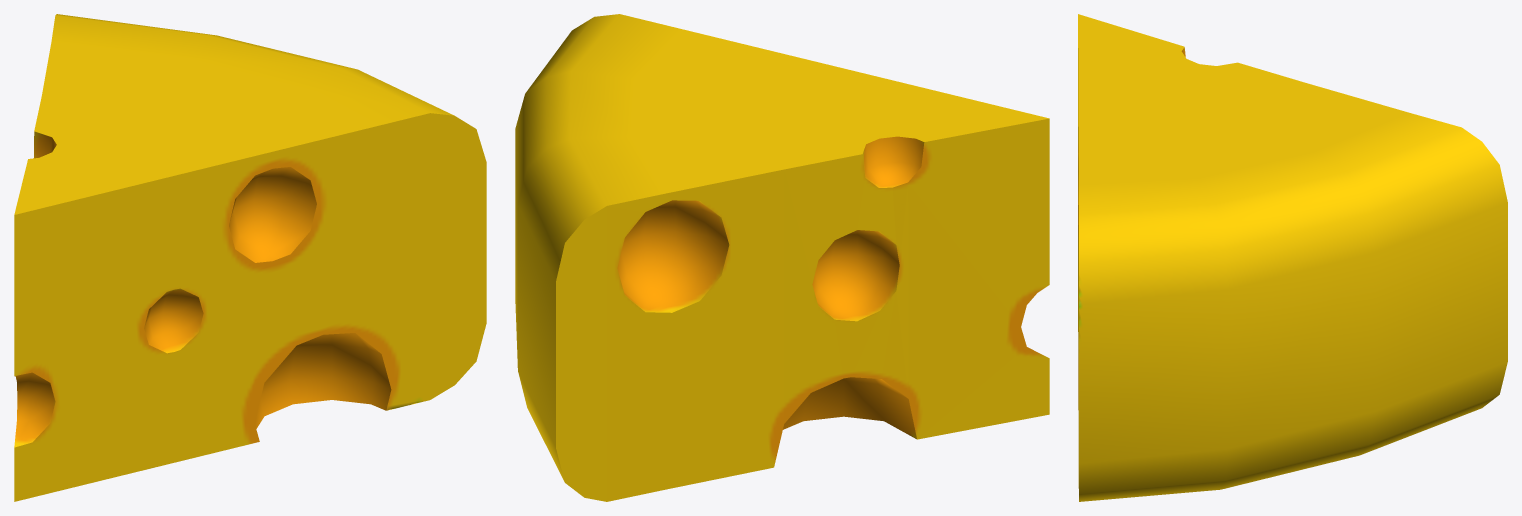
The model's file is Cheese.FBX.
The picture shows the model from 3 angles, left to right: view 1: azimuth 30°, elevation 25°; view 2: azimuth 150°, elevation 25°; view 3: azimuth 270°, elevation 25°; orthographic projection. The views are drawn at different scales.
Visible parts, largest first — view 1: Cheese; view 2: Cheese; view 3: Cheese.
Boxes of the visible parts, box(x1,y1,x2,y2) form: Cheese: box(14, 14, 486, 501); Cheese: box(515, 14, 1049, 501); Cheese: box(1078, 14, 1507, 501).
Size of the model in its own units: 2857 by 2275 by 1657.
Materials: 1 (1 with a texture image).
